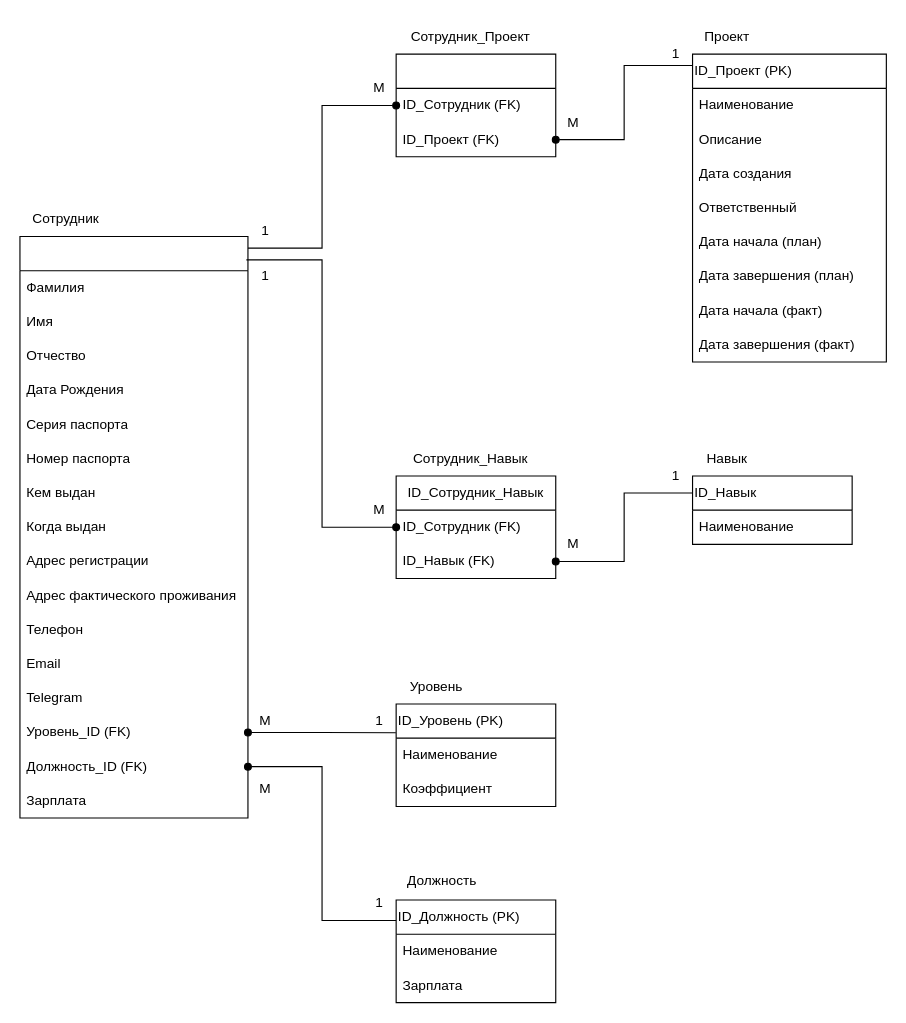
Some shapes in this 906 by 1023 pixel diagram are drawn without their labels. The shapes that lost their labels are listed below. From the top down, each one's box as (x1, y1, x2, y2) in pixels, then its label:
(395, 53, 556, 157): ID_Сотрудник_Проект
(19, 235, 248, 818): ID_Сотрудник (PK)
